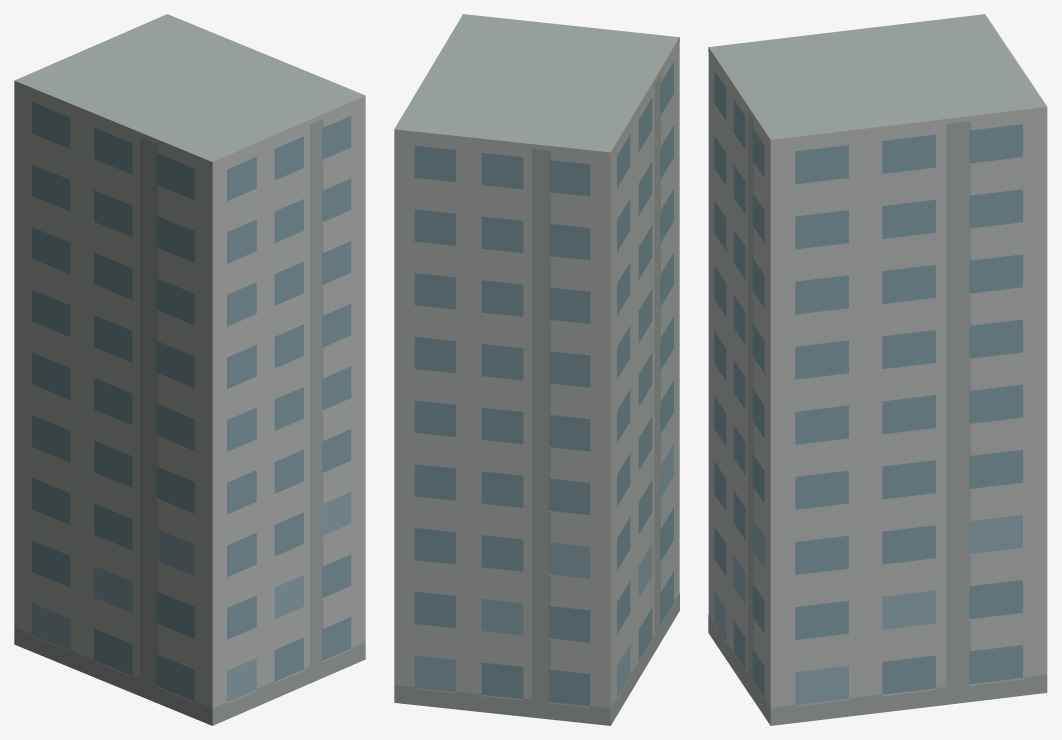
The model's file is residential-5a4cd9bd-8892-4931-90b1-ced286213ec9.glb.
The picture shows the model from 3 angles, left to right: view 1: azimuth 30°, elevation 25°; view 2: azimuth 150°, elevation 25°; view 3: azimuth 270°, elevation 25°; orthographic projection. The views are drawn at different scales.
Parts seen in each view (by area): view 1: residential-5a4cd9bd-8892-4931-90b1-ced286213ec9.tmp; view 2: residential-5a4cd9bd-8892-4931-90b1-ced286213ec9.tmp; view 3: residential-5a4cd9bd-8892-4931-90b1-ced286213ec9.tmp.
Boxes of the visible parts, x1,y1,x2,y2 form: residential-5a4cd9bd-8892-4931-90b1-ced286213ec9.tmp: (14, 14, 365, 725); residential-5a4cd9bd-8892-4931-90b1-ced286213ec9.tmp: (394, 14, 679, 725); residential-5a4cd9bd-8892-4931-90b1-ced286213ec9.tmp: (708, 14, 1047, 725).
Bounding box in the file's own units: 12.91 × 28 × 14.68.
